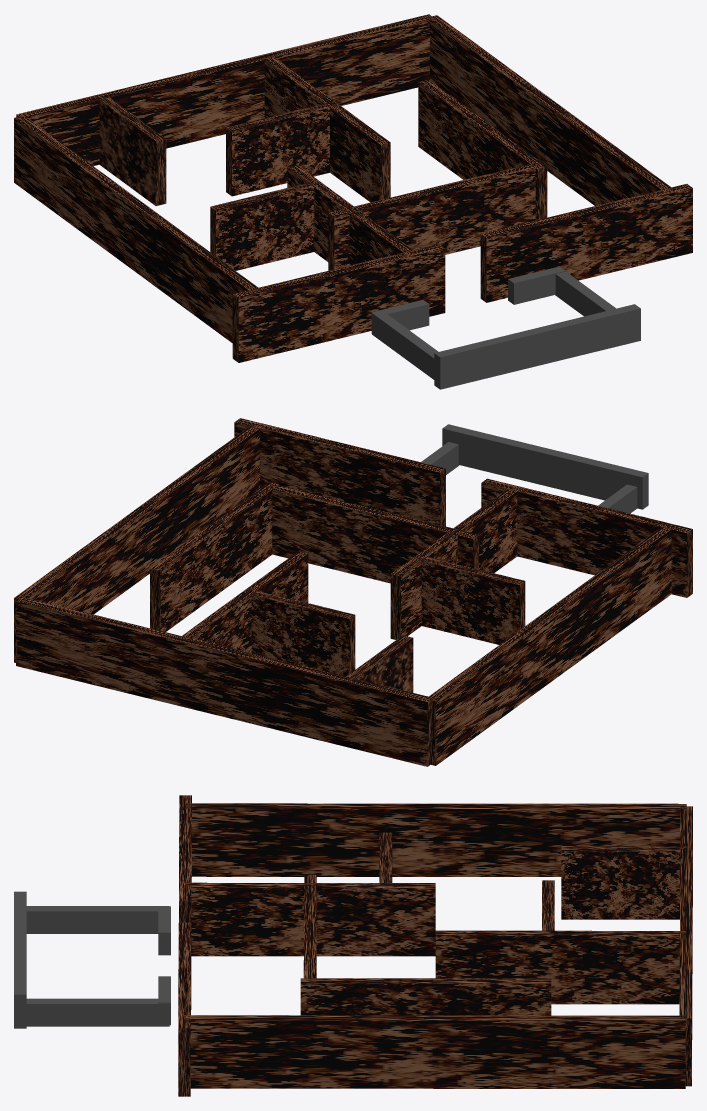
The model's file is Stage1Collision.fbx.
The picture shows the model from 3 angles, top to bottom: view 1: azimuth 30°, elevation 25°; view 2: azimuth 150°, elevation 25°; view 3: azimuth 270°, elevation 25°; orthographic projection. The views are drawn at different scales.
Parts seen in each view (by area): view 1: Cube.003, Cube.002, Cube.001, Cube.004, Cube.005, Cube.006, Cube.022, Cube.011, Cube.010, Cube.007, Cube.009, Cube.012 (+5 smaller); view 2: Cube.003, Cube.002, Cube.001, Cube.005, Cube.006, Cube.004, Cube.007, Cube.022, Cube.011, Cube.010, Cube.008, Cube.009 (+3 smaller); view 3: Cube.001, Cube.002, Cube.008, Cube.009, Cube.007, Cube.012, Cube.024, Cube.023, Cube.003, Cube.005, Cube.022, Cube.004 (+4 smaller).
Part boxes in pixels (left/top/right/bottom): Cube.003: left=16, top=14, right=433, bottom=166; Cube.002: left=14, top=116, right=258, bottom=342; Cube.001: left=427, top=15, right=671, bottom=205; Cube.004: left=232, top=244, right=445, bottom=362; Cube.005: left=480, top=184, right=692, bottom=302; Cube.006: left=328, top=162, right=540, bottom=270; Cube.022: left=434, top=304, right=640, bottom=389; Cube.011: left=210, top=183, right=314, bottom=270; Cube.010: left=226, top=103, right=329, bottom=196; Cube.007: left=418, top=79, right=547, bottom=220; Cube.009: left=262, top=56, right=390, bottom=202; Cube.012: left=97, top=96, right=166, bottom=205; Cube.003: left=16, top=598, right=431, bottom=766; Cube.002: left=426, top=527, right=671, bottom=765; Cube.001: left=14, top=424, right=262, bottom=662; Cube.005: left=234, top=418, right=445, bottom=526; Cube.006: left=270, top=484, right=478, bottom=583; Cube.004: left=481, top=478, right=692, bottom=597; Cube.007: left=150, top=482, right=279, bottom=631; Cube.022: left=442, top=424, right=648, bottom=509; Cube.011: left=418, top=557, right=525, bottom=644; Cube.010: left=251, top=591, right=355, bottom=676; Cube.008: left=390, top=488, right=519, bottom=639; Cube.009: left=182, top=551, right=308, bottom=653; Cube.001: left=184, top=1015, right=685, bottom=1088; Cube.002: left=185, top=803, right=686, bottom=876; Cube.008: left=185, top=882, right=435, bottom=956; Cube.009: left=435, top=930, right=685, bottom=1004; Cube.007: left=300, top=978, right=551, bottom=1015; Cube.012: left=561, top=846, right=686, bottom=919; Cube.024: left=26, top=998, right=169, bottom=1026; Cube.023: left=26, top=906, right=169, bottom=933; Cube.003: left=679, top=806, right=692, bottom=1086; Cube.005: left=178, top=922, right=191, bottom=1096; Cube.022: left=14, top=891, right=26, bottom=1028; Cube.004: left=179, top=795, right=191, bottom=922.
Size of the model in its own units: 44 by 6.02 by 54.2.
Materials: 6 (1 with a texture image).
